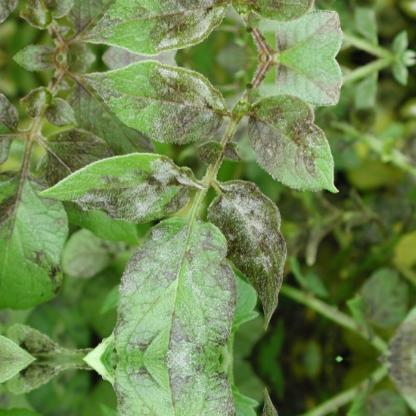Late-Blight: (49, 57, 354, 358)
